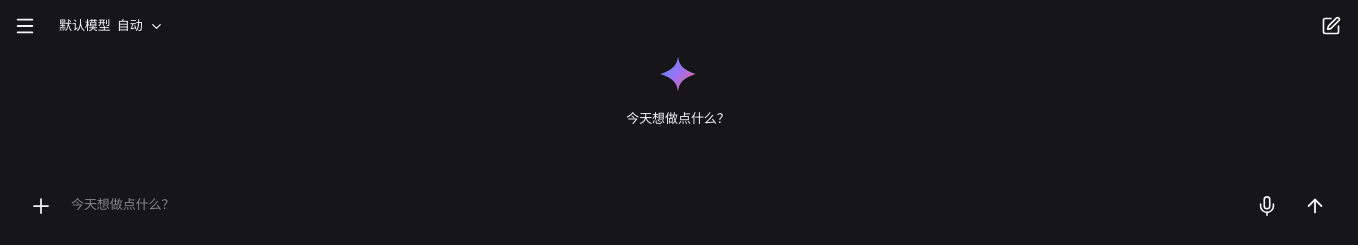
Test: HomePage › inserts voice transcription at the caret without creating or sending a session
Type "前文后文" into the text box named "消息输入框".
click(654, 206); type("前文后文")  # box x1=67 y1=184 x2=1241 y2=228
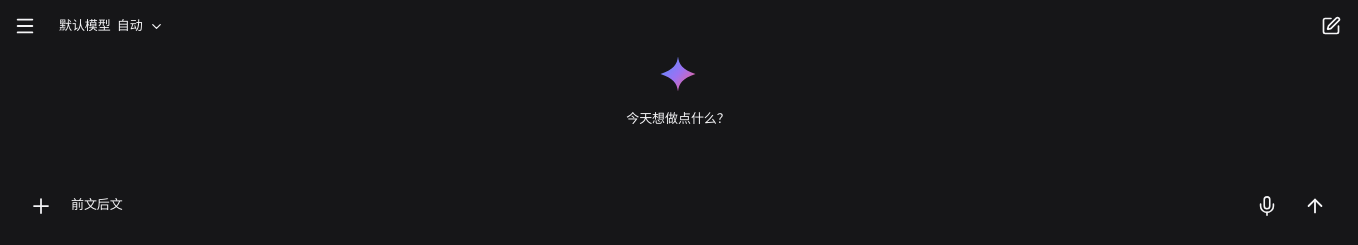
Click the button named "语音输入".
click(1267, 206)  # box x1=1245 y1=184 x2=1289 y2=228
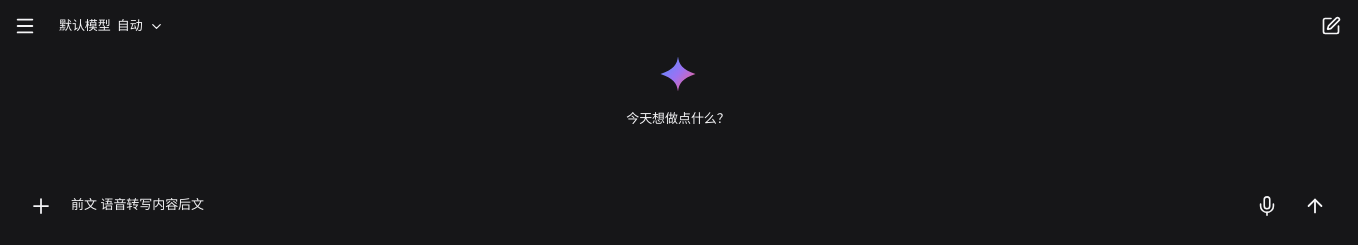
Now the text box named "消息输入框" holds "前文 语音转写内容后文", box x1=67 y1=184 x2=1241 y2=228
